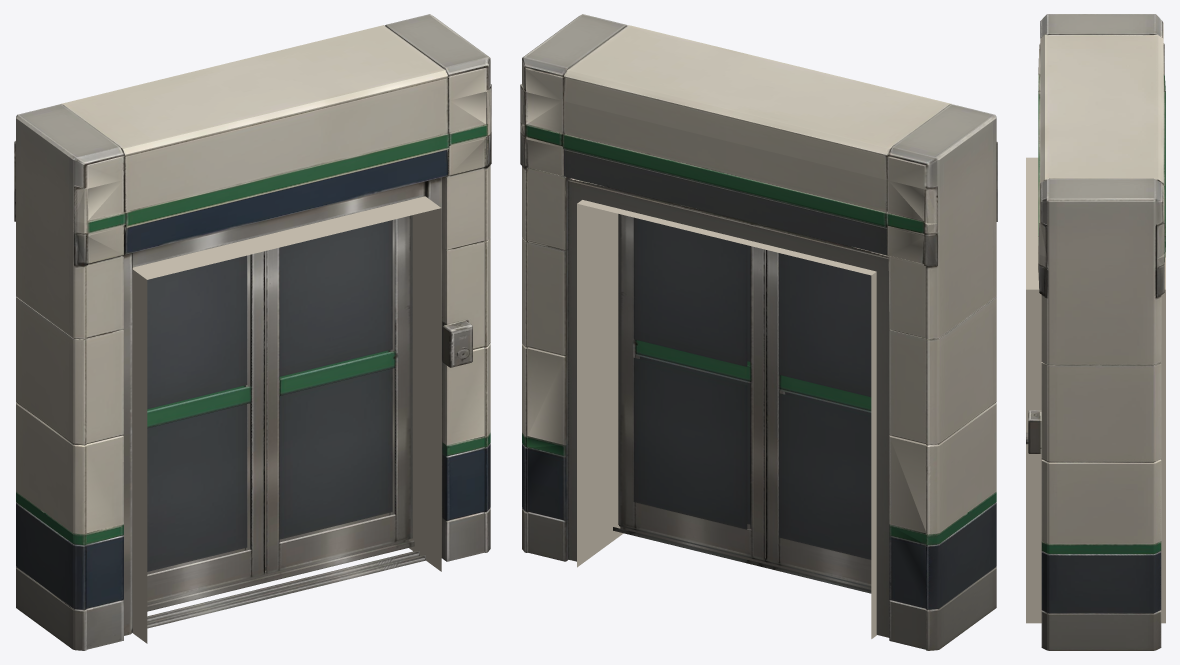
File: door_locked.fbx
The picture shows the model from 3 angles, left to right: view 1: azimuth 30°, elevation 25°; view 2: azimuth 150°, elevation 25°; view 3: azimuth 270°, elevation 25°; orthographic projection. The views are drawn at different scales.
Parts seen in each view (by area): view 1: door_locked, Door; view 2: door_locked, Door; view 3: door_locked.
Part boxes in pixels (x1,y1,x2,y2): door_locked: (14,14,491,650); Door: (147,215,425,628); door_locked: (520,14,997,650); Door: (613,214,871,593); door_locked: (1026,14,1165,650).
Size of the model in its own units: 4 by 4.5 by 1.26.
Materials: 1 (1 with a texture image).
